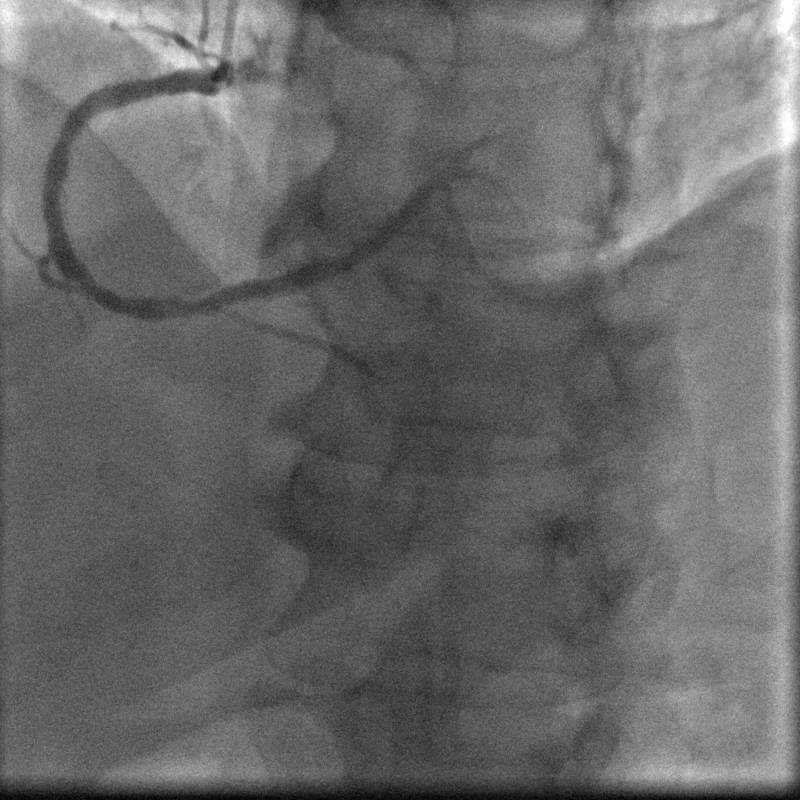Stenosis: (161, 283, 246, 315)
